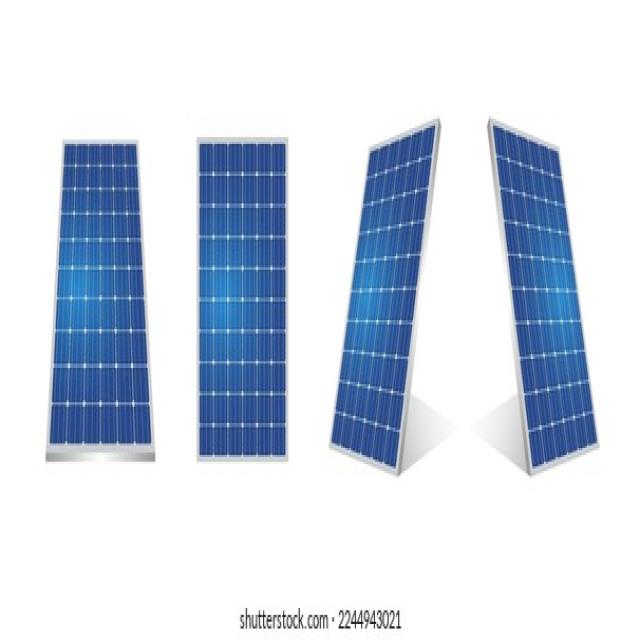clean-solar-panel: (47, 141, 155, 460)
